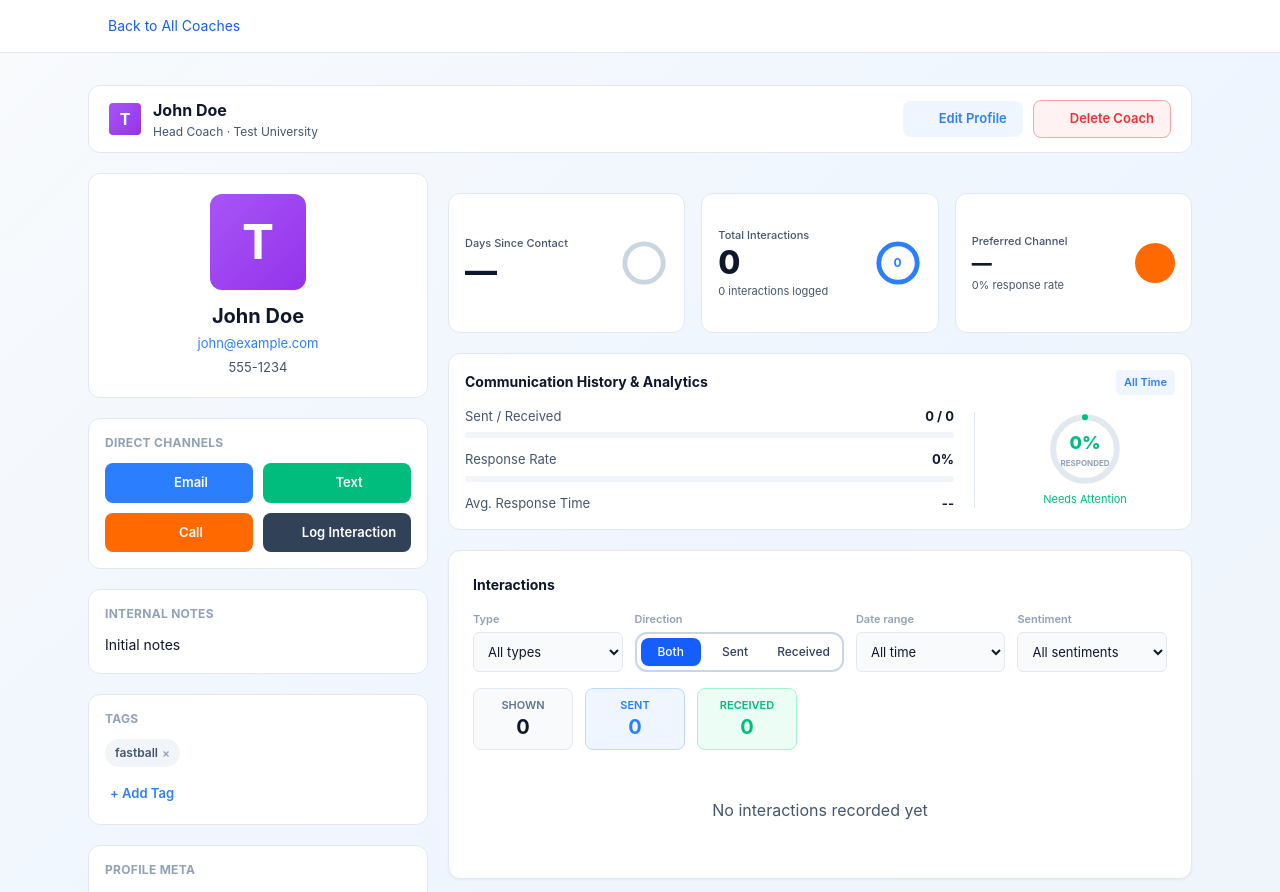
Test: Coach Detail Page › Coach Management › opens delete modal when delete is clicked
This screenshot has width=1280, height=892.
Click the button with test id "coach-header-delete" at (1102, 119), box [1033,100,1171,138]
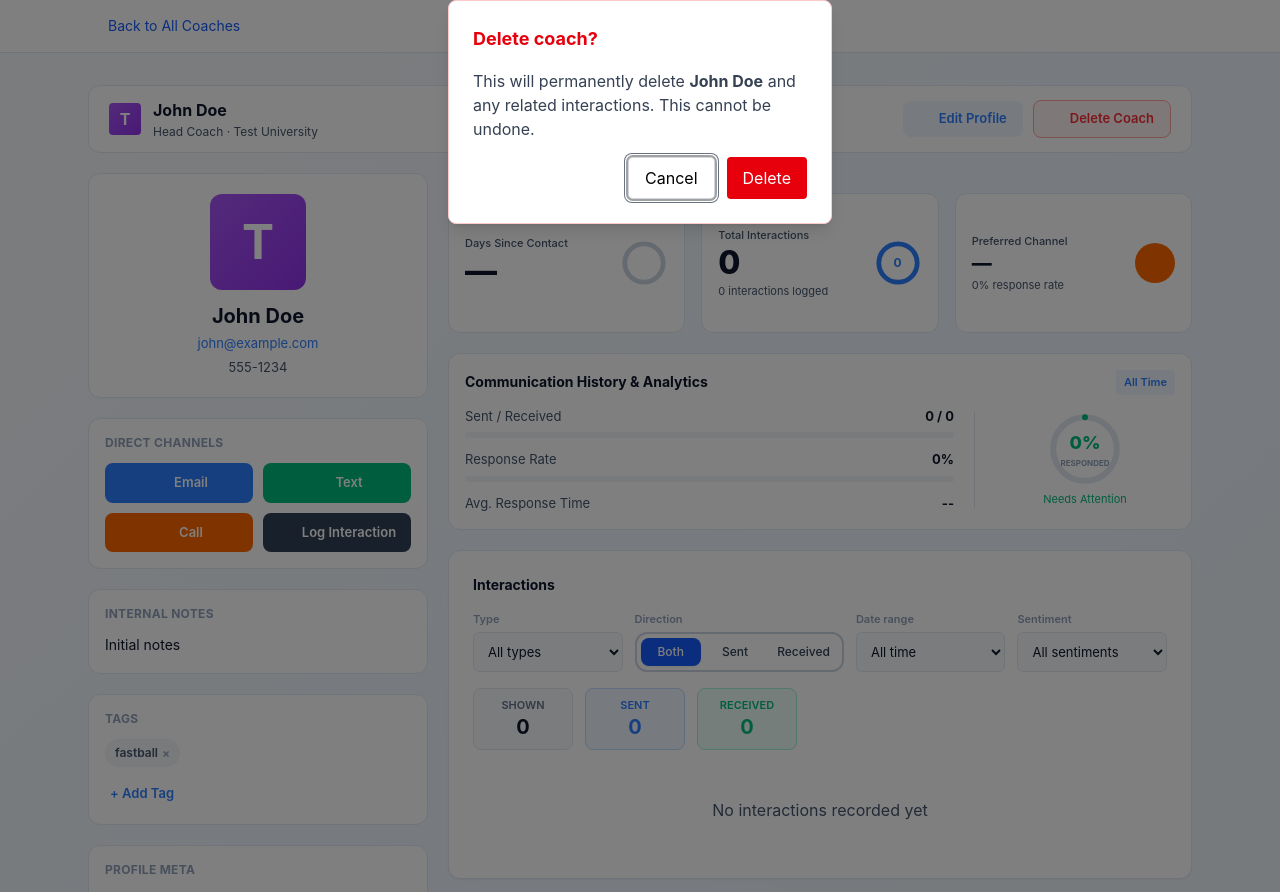
Expected: the dialog with test id "delete-modal" is shown, [448,0,832,224]
